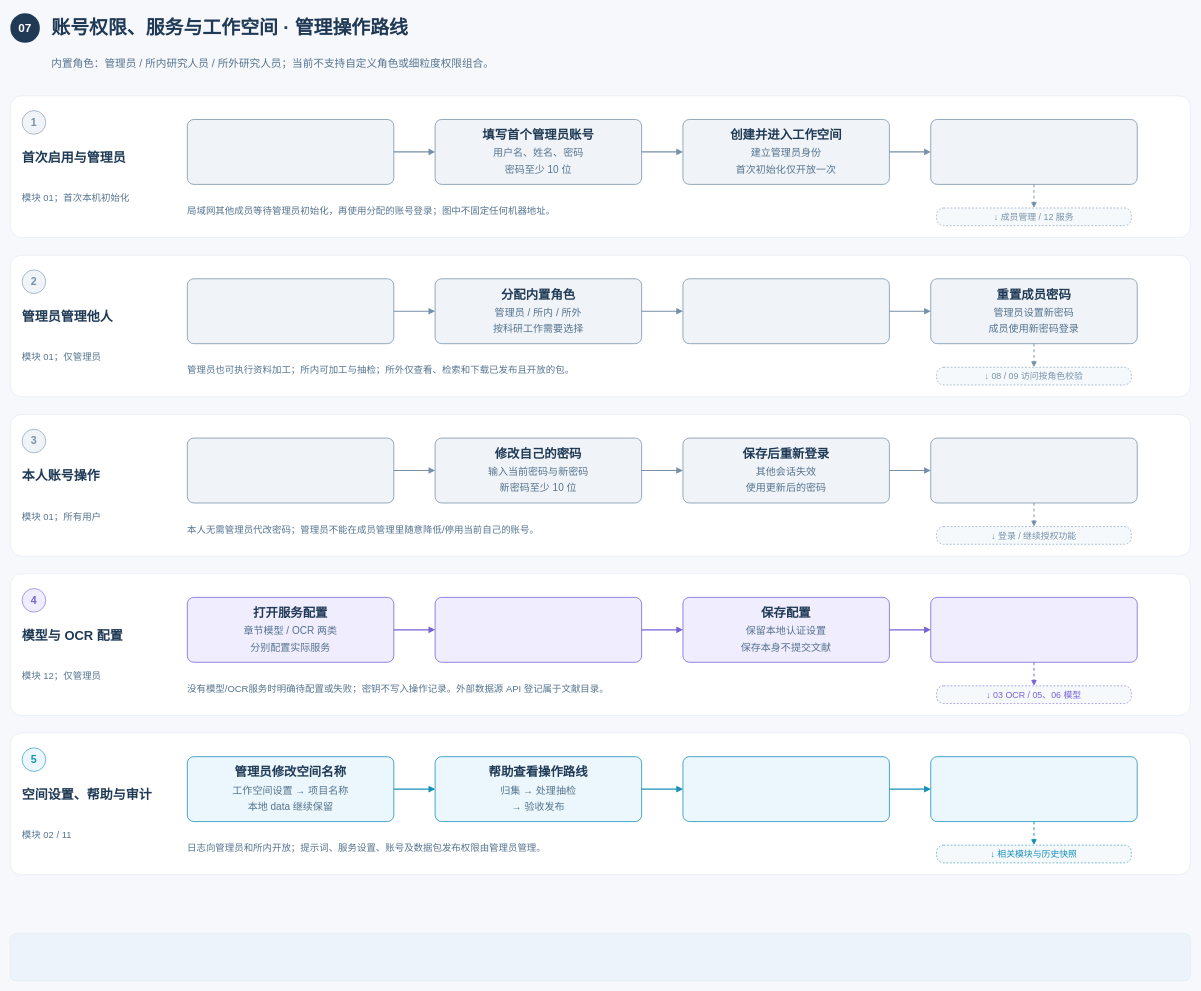
Image size: 1201x991. Some labels were removed from this diagram. Here are the shapes that lost their labels. From the top down, the centre of each, then its label:
the point at 290,151: 在服务电脑打开系统 本机首次访问 检查是否尚未初始化
the point at 1033,151: 继续配置与分配账号 管理员创建其他成员 按需配置实际服务
the point at 290,311: 创建成员账号 填写姓名、账号、初始密码 至少 10 位密码
the point at 786,311: 调整角色及启停 修改他人角色 启用或停用账号
the point at 290,470: 打开顶部“我的账号” 查看姓名、用户名和角色 角色由管理员分配
the point at 1033,470: 需要时退出登录 结束当前会话 返回账号登录入口
the point at 538,629: 填写接口与认证 模型名/图片支持/密钥 OCR 完整接口与密钥
the point at 1033,629: 回工作模块发起任务 资产 OCR 或章节/批次模型 查看状态，失败可重试
the point at 786,789: 查看操作记录 资料/修订/复核/验收/发布 操作人、批次与版本留痕
the point at 1033,789: 筛选并回溯记录 按人、事件或批次过滤 打开所属批次与详情
the point at 600,957: 角色与发布条件是实际访问控制；“授权标签”仍需基于资料权利依据填写，系统不会自动判断版权或模型 API 条款。
